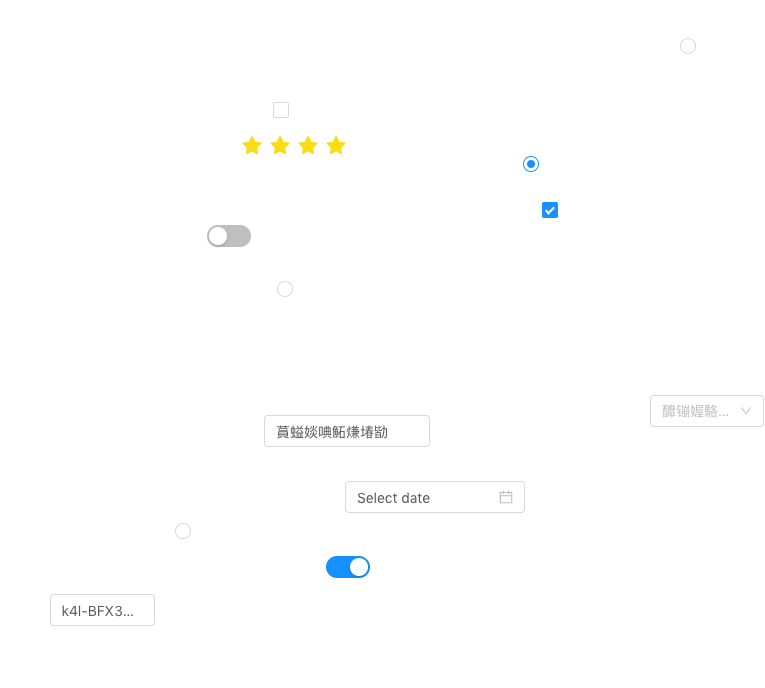Checkbox: (273, 99, 289, 120), (542, 199, 558, 220)
DatePicker: (345, 481, 525, 513)
Input: (264, 415, 430, 447), (50, 594, 189, 626)
Radio: (277, 278, 293, 298), (523, 153, 539, 173), (680, 35, 696, 55), (175, 520, 191, 540)
Rate: (242, 129, 362, 161)
Select: (650, 395, 764, 427)
Switch: (326, 555, 370, 579), (207, 224, 251, 248)
